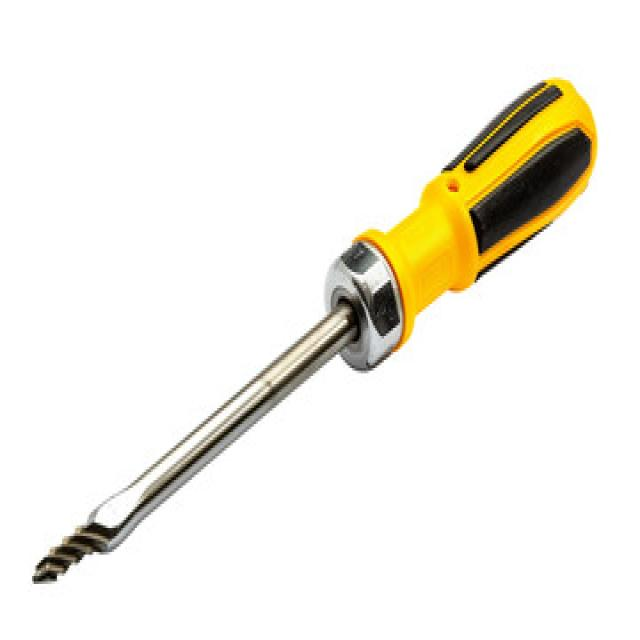screwdriver: (30, 75, 598, 584)
